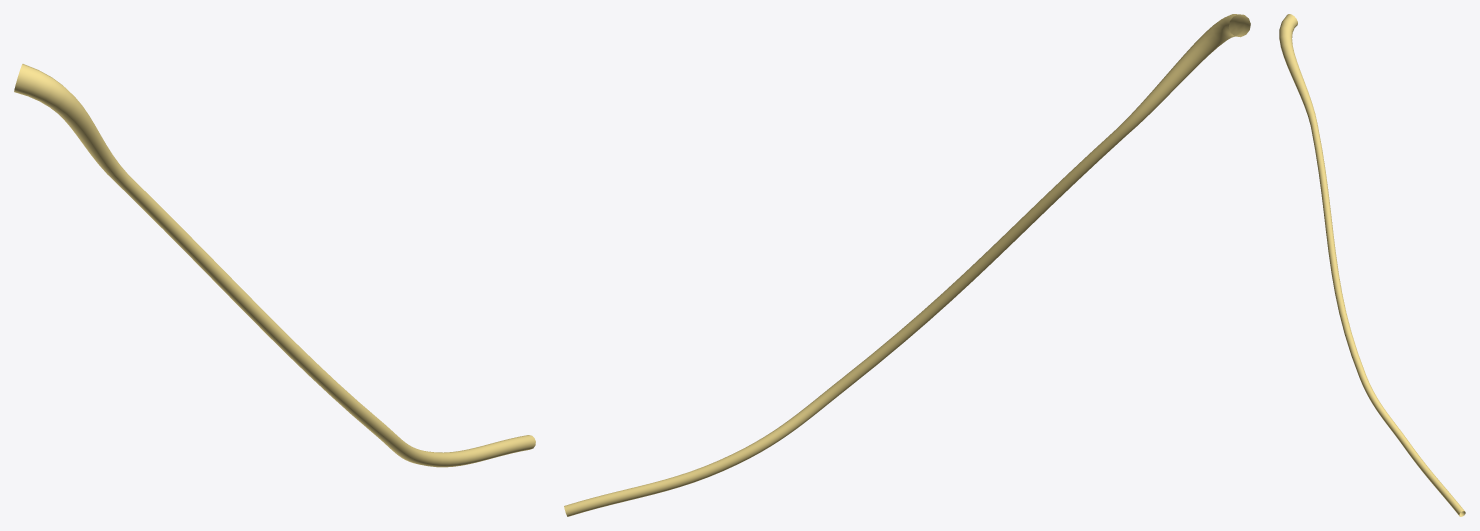
The picture shows the model from 3 angles, left to right: view 1: azimuth 30°, elevation 25°; view 2: azimuth 150°, elevation 25°; view 3: azimuth 270°, elevation 25°; orthographic projection. The views are drawn at different scales.
Parts seen in each view (by area): view 1: ZA_4393c285794e70ce; view 2: ZA_4393c285794e70ce; view 3: ZA_4393c285794e70ce.
Part boxes in pixels (x1,y1,x2,y2): ZA_4393c285794e70ce: [14, 64, 535, 467]; ZA_4393c285794e70ce: [564, 14, 1250, 516]; ZA_4393c285794e70ce: [1279, 14, 1465, 516].
Bounding box in the file's own units: 0.0537 × 0.0499 × 0.025.
